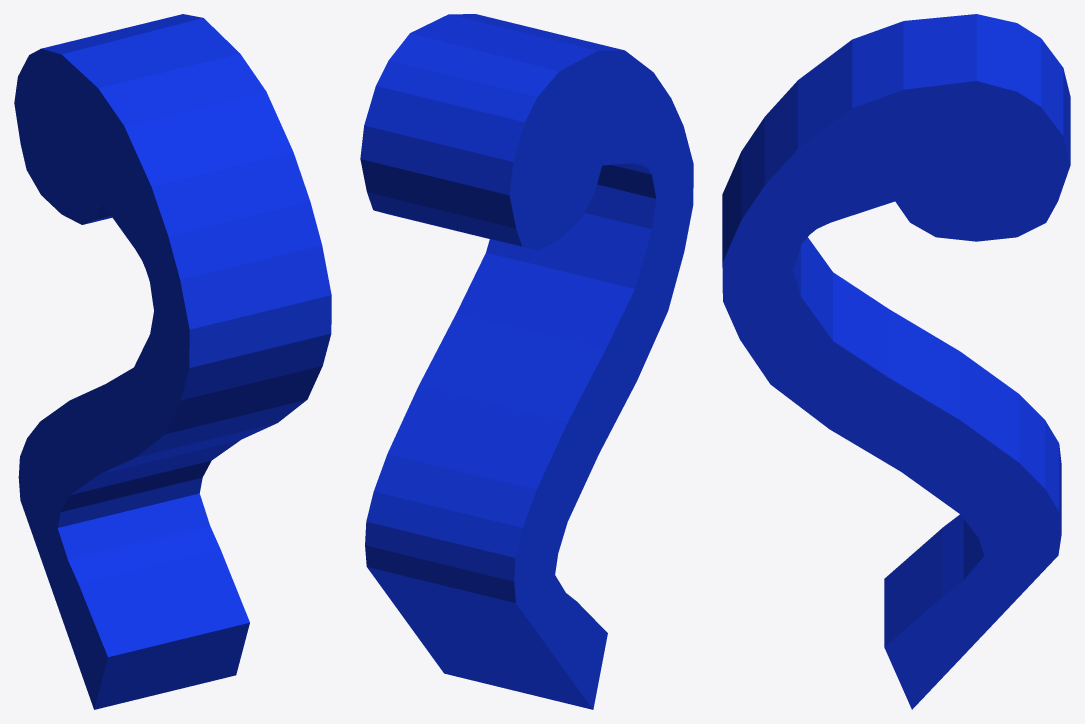
The picture shows the model from 3 angles, left to right: view 1: azimuth 30°, elevation 25°; view 2: azimuth 150°, elevation 25°; view 3: azimuth 270°, elevation 25°; orthographic projection. The views are drawn at different scales.
Visible parts, largest first — view 1: Cube; view 2: Cube; view 3: Cube.
Part boxes in pixels (x1,y1,x2,y2): Cube: (14, 14, 331, 709); Cube: (360, 14, 693, 709); Cube: (722, 14, 1070, 709).
Size of the model in its own units: 200 by 852 by 427.
